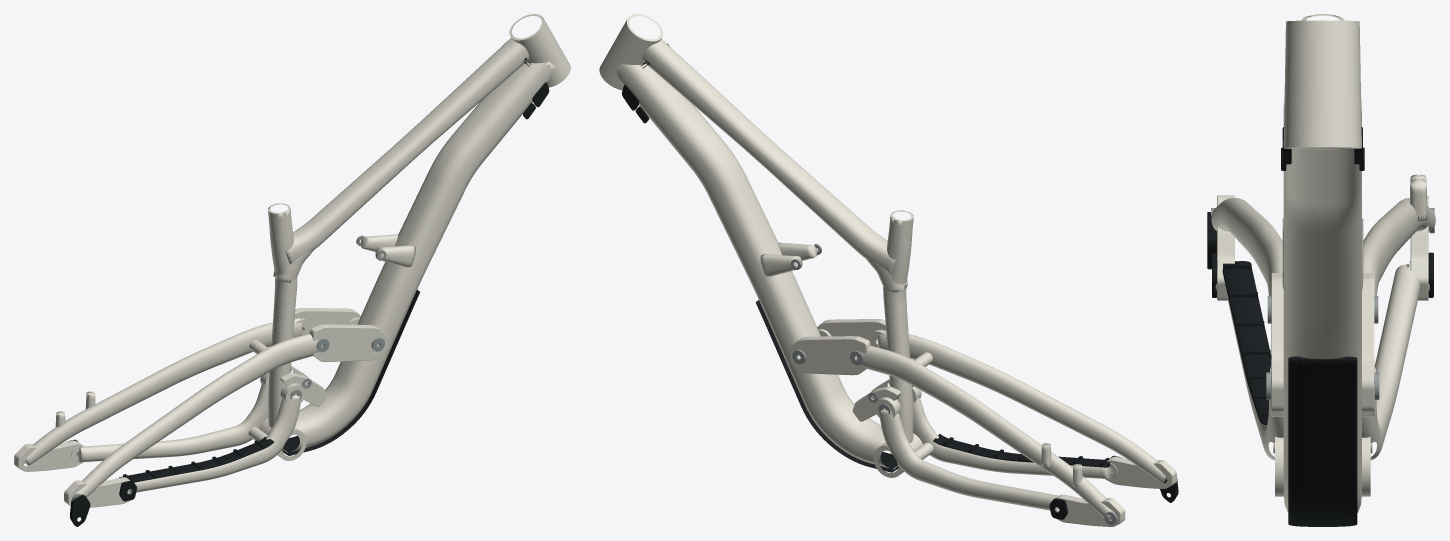
File: yt-tues-mk4-carbon--l.glb
3 views of the same model, side by side, from view 1: azimuth 30°, elevation 25°; view 2: azimuth 150°, elevation 25°; view 3: azimuth 270°, elevation 25° (orthographic). The views are drawn at different scales.
Parts seen in each view (by area): view 1: yt-tues-mk4-carbon__paint_0, yt-tues-mk4-carbon__chain_guard, yt-tues-mk4-carbon__bolt_899_675_-1; view 2: yt-tues-mk4-carbon__paint_0, yt-tues-mk4-carbon__chain_guard, yt-tues-mk4-carbon__bolt_899_675_-1; view 3: yt-tues-mk4-carbon__paint_0, yt-tues-mk4-carbon__chain_guard, yt-tues-mk4-carbon__bolt_899_675_-1.
Boxes of the visible parts, bbox=[...] form: yt-tues-mk4-carbon__paint_0: bbox=[14, 14, 570, 507]; yt-tues-mk4-carbon__chain_guard: bbox=[67, 82, 549, 526]; yt-tues-mk4-carbon__bolt_899_675_-1: bbox=[23, 235, 386, 501]; yt-tues-mk4-carbon__paint_0: bbox=[599, 14, 1176, 526]; yt-tues-mk4-carbon__chain_guard: bbox=[621, 85, 1178, 519]; yt-tues-mk4-carbon__bolt_899_675_-1: bbox=[791, 244, 1117, 524]; yt-tues-mk4-carbon__paint_0: bbox=[1211, 14, 1435, 512]; yt-tues-mk4-carbon__chain_guard: bbox=[1207, 127, 1433, 526]; yt-tues-mk4-carbon__bolt_899_675_-1: bbox=[1211, 208, 1434, 399].
Size of the model in its own units: 1.02 by 0.6903 by 0.1982.
Materials: 5 (2 with a texture image).
